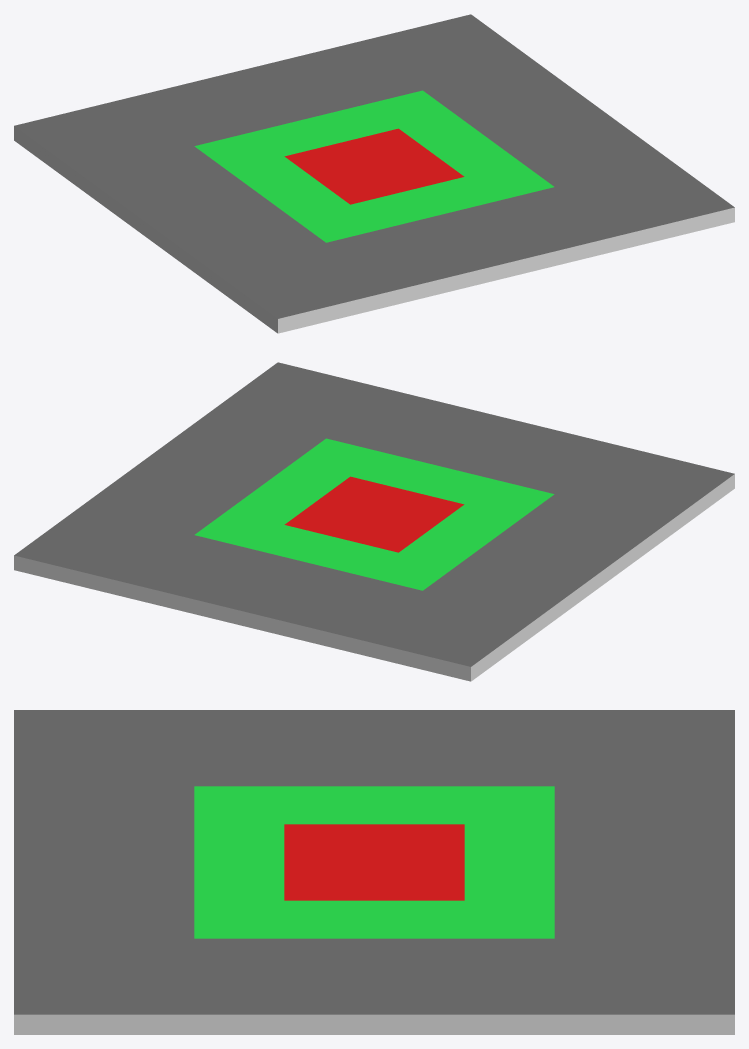
File: CampFireBoard.fbx
3 views of the same model, one above another, from view 1: azimuth 30°, elevation 25°; view 2: azimuth 150°, elevation 25°; view 3: azimuth 270°, elevation 25° (orthographic). The views are drawn at different scales.
Parts seen in each view (by area): view 1: Cube; view 2: Cube; view 3: Cube.
Boxes of the visible parts, x1,y1,x2,y2 form: Cube: (14,14,734,333); Cube: (14,362,734,681); Cube: (14,710,734,1034).
Size of the model in its own units: 2079 by 63.9 by 2079.
